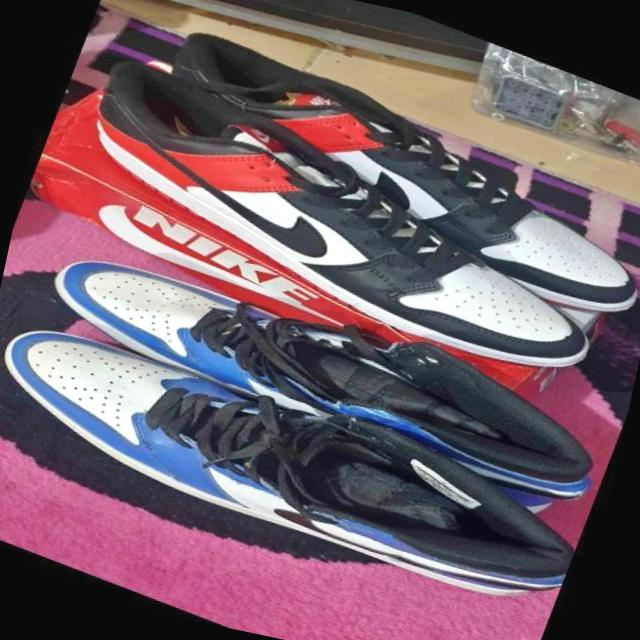nike_fake_jordan: (17, 33, 640, 407), (0, 299, 605, 640), (18, 208, 640, 537), (103, 8, 640, 333)
